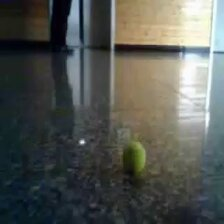tennis: (121, 141, 147, 175)
